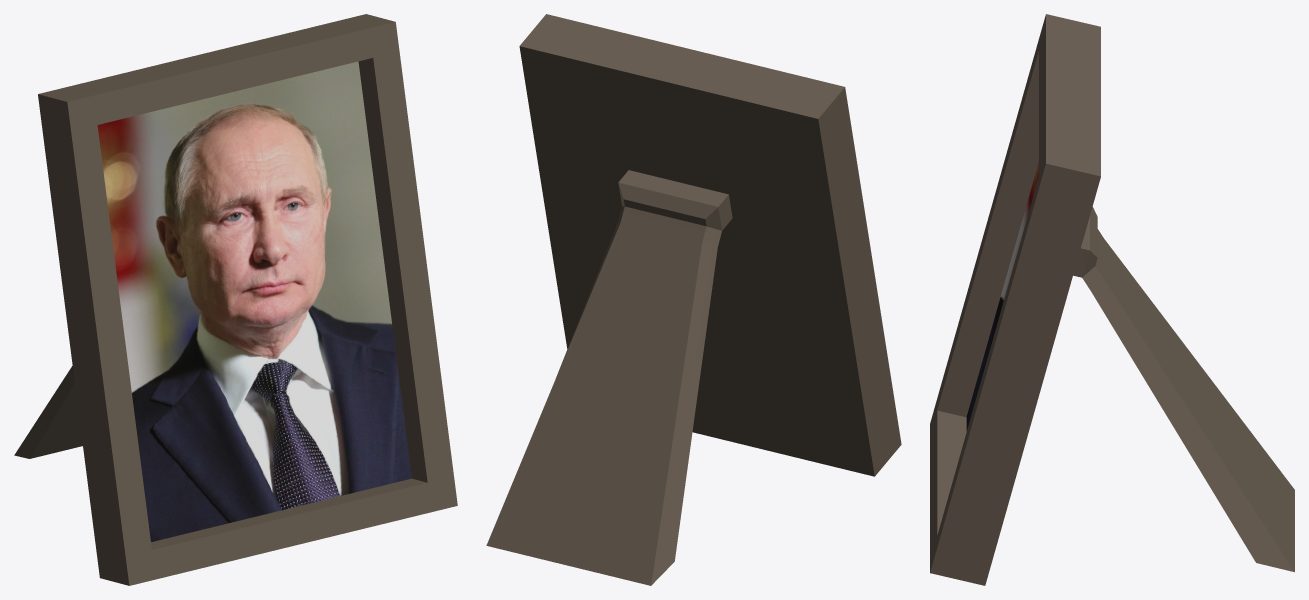
The model's file is cadre_poutine.fbx.
3 views of the same model, side by side, from view 1: azimuth 30°, elevation 25°; view 2: azimuth 150°, elevation 25°; view 3: azimuth 270°, elevation 25° (orthographic). The views are drawn at different scales.
Visible parts, largest first — view 1: cadre; view 2: cadre; view 3: cadre.
Boxes of the visible parts, x1=… form: cadre: x1=14, y1=14, x2=457, y2=585; cadre: x1=486, y1=14, x2=901, y2=585; cadre: x1=930, y1=14, x2=1294, y2=585.
Size of the model in its own units: 6.23 by 8.52 by 6.41.
